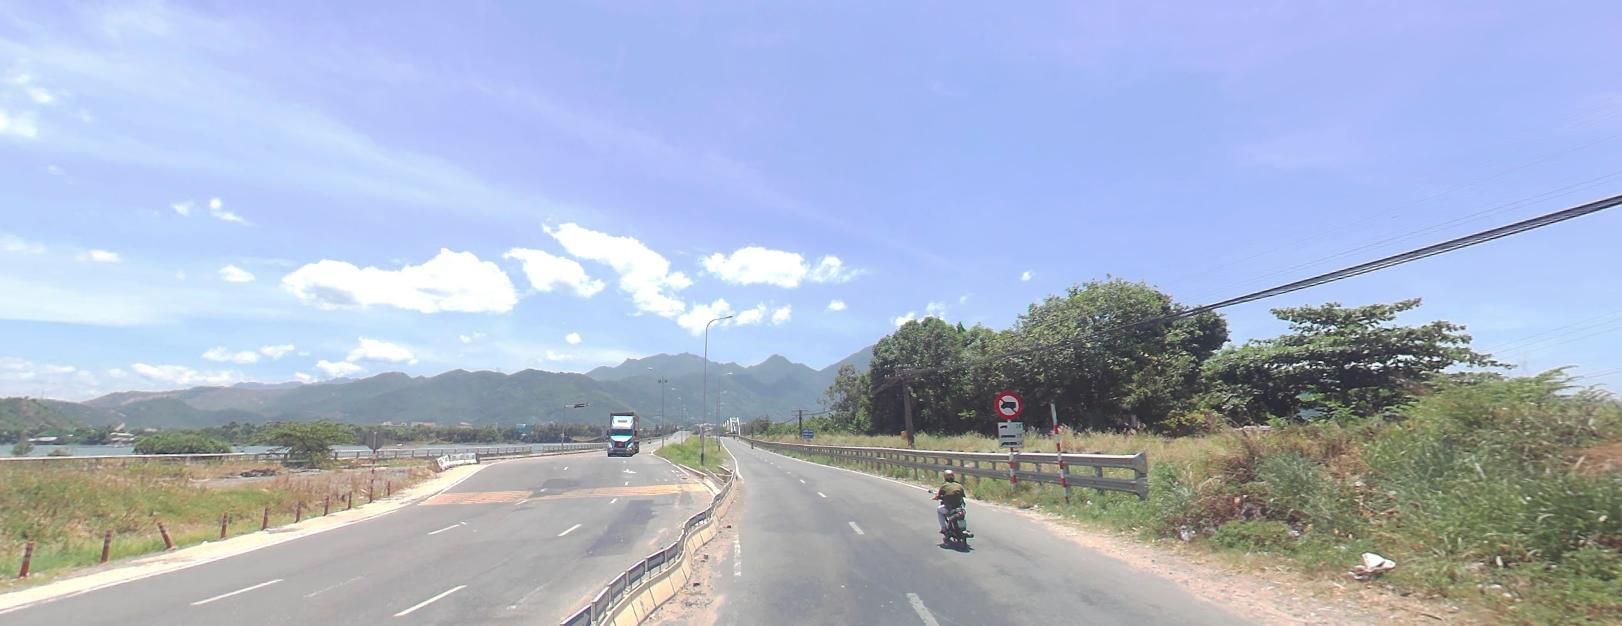Cam con lai: (995, 388, 1022, 416)
